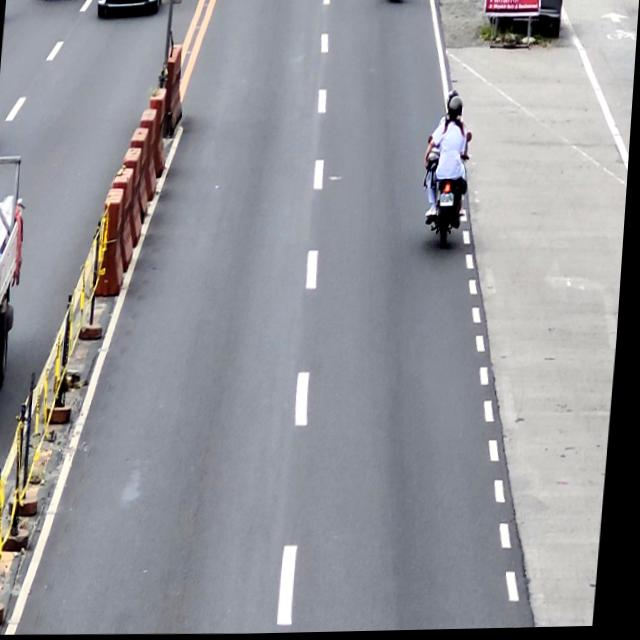License-Plate: (441, 195, 456, 210)
Motorcycle: (422, 128, 473, 252)
